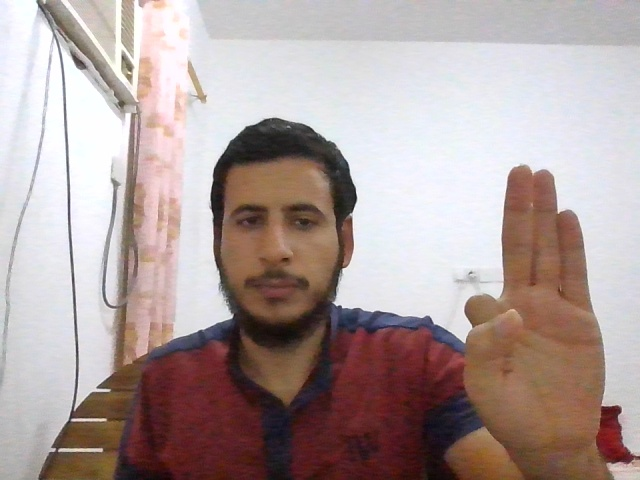Three: (465, 166, 607, 453)
